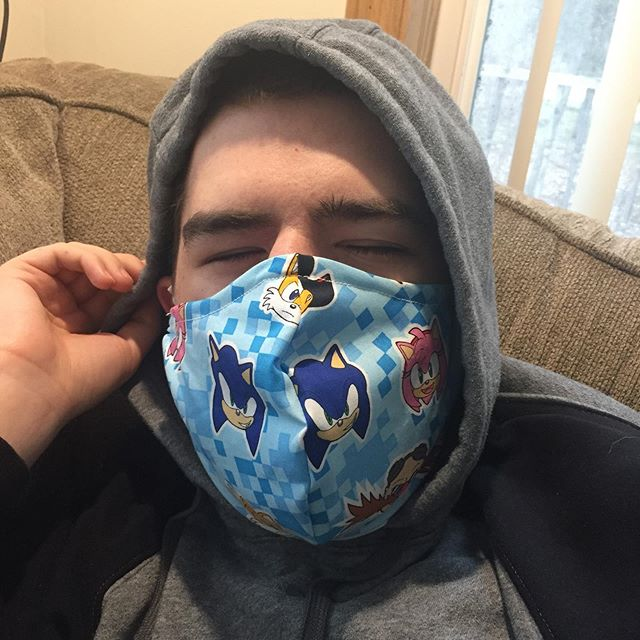homemade: (161, 274, 462, 533)
